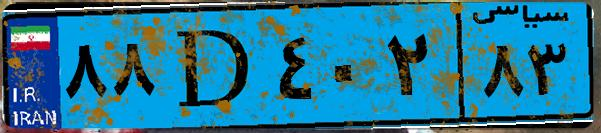0: (330, 28, 385, 110)
2: (385, 28, 445, 110)
3: (525, 38, 570, 115)
4: (270, 28, 330, 110)
8: (57, 26, 110, 100), (475, 38, 525, 113), (110, 28, 158, 98)
D: (158, 12, 270, 120)
